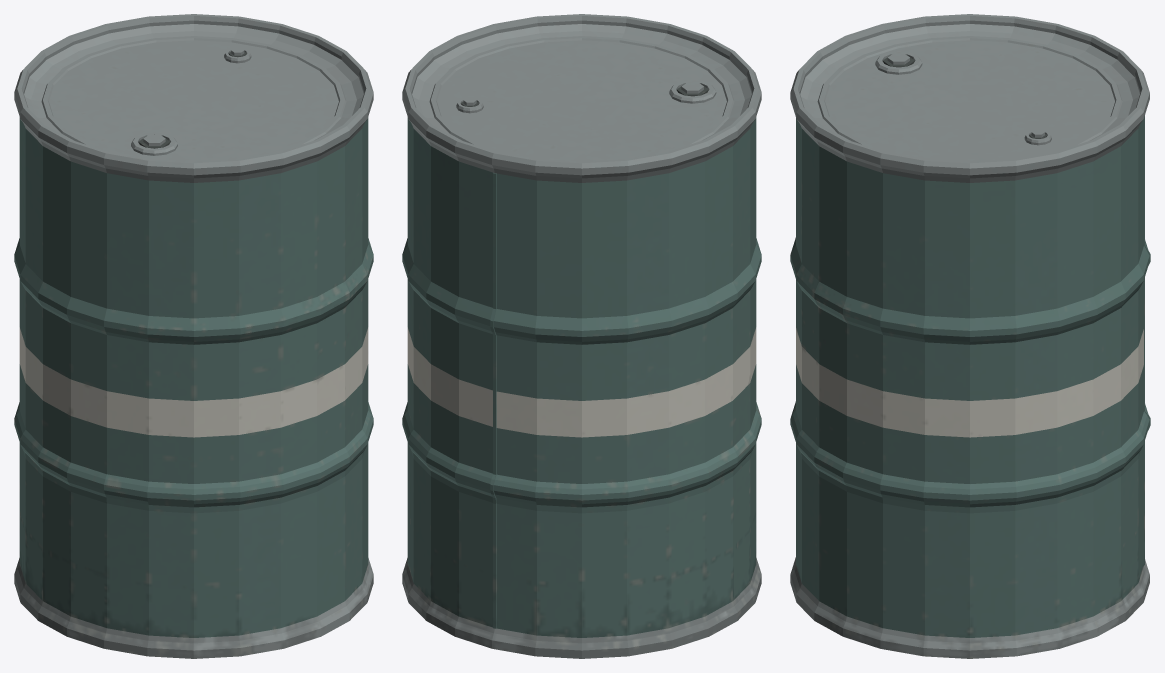
The model's file is oil_drum_closed.glb.
The picture shows the model from 3 angles, left to right: view 1: azimuth 30°, elevation 25°; view 2: azimuth 150°, elevation 25°; view 3: azimuth 270°, elevation 25°; orthographic projection.
Visible parts, largest first — view 1: OilDrumClosed; view 2: OilDrumClosed; view 3: OilDrumClosed.
Part boxes in pixels (x1,y1,x2,y2): OilDrumClosed: (14, 14, 373, 658); OilDrumClosed: (402, 14, 761, 658); OilDrumClosed: (790, 14, 1150, 658).
Size of what is drawn, in the model's own units: 0.58 by 0.88 by 0.5812.
1 material, 1 textured.
